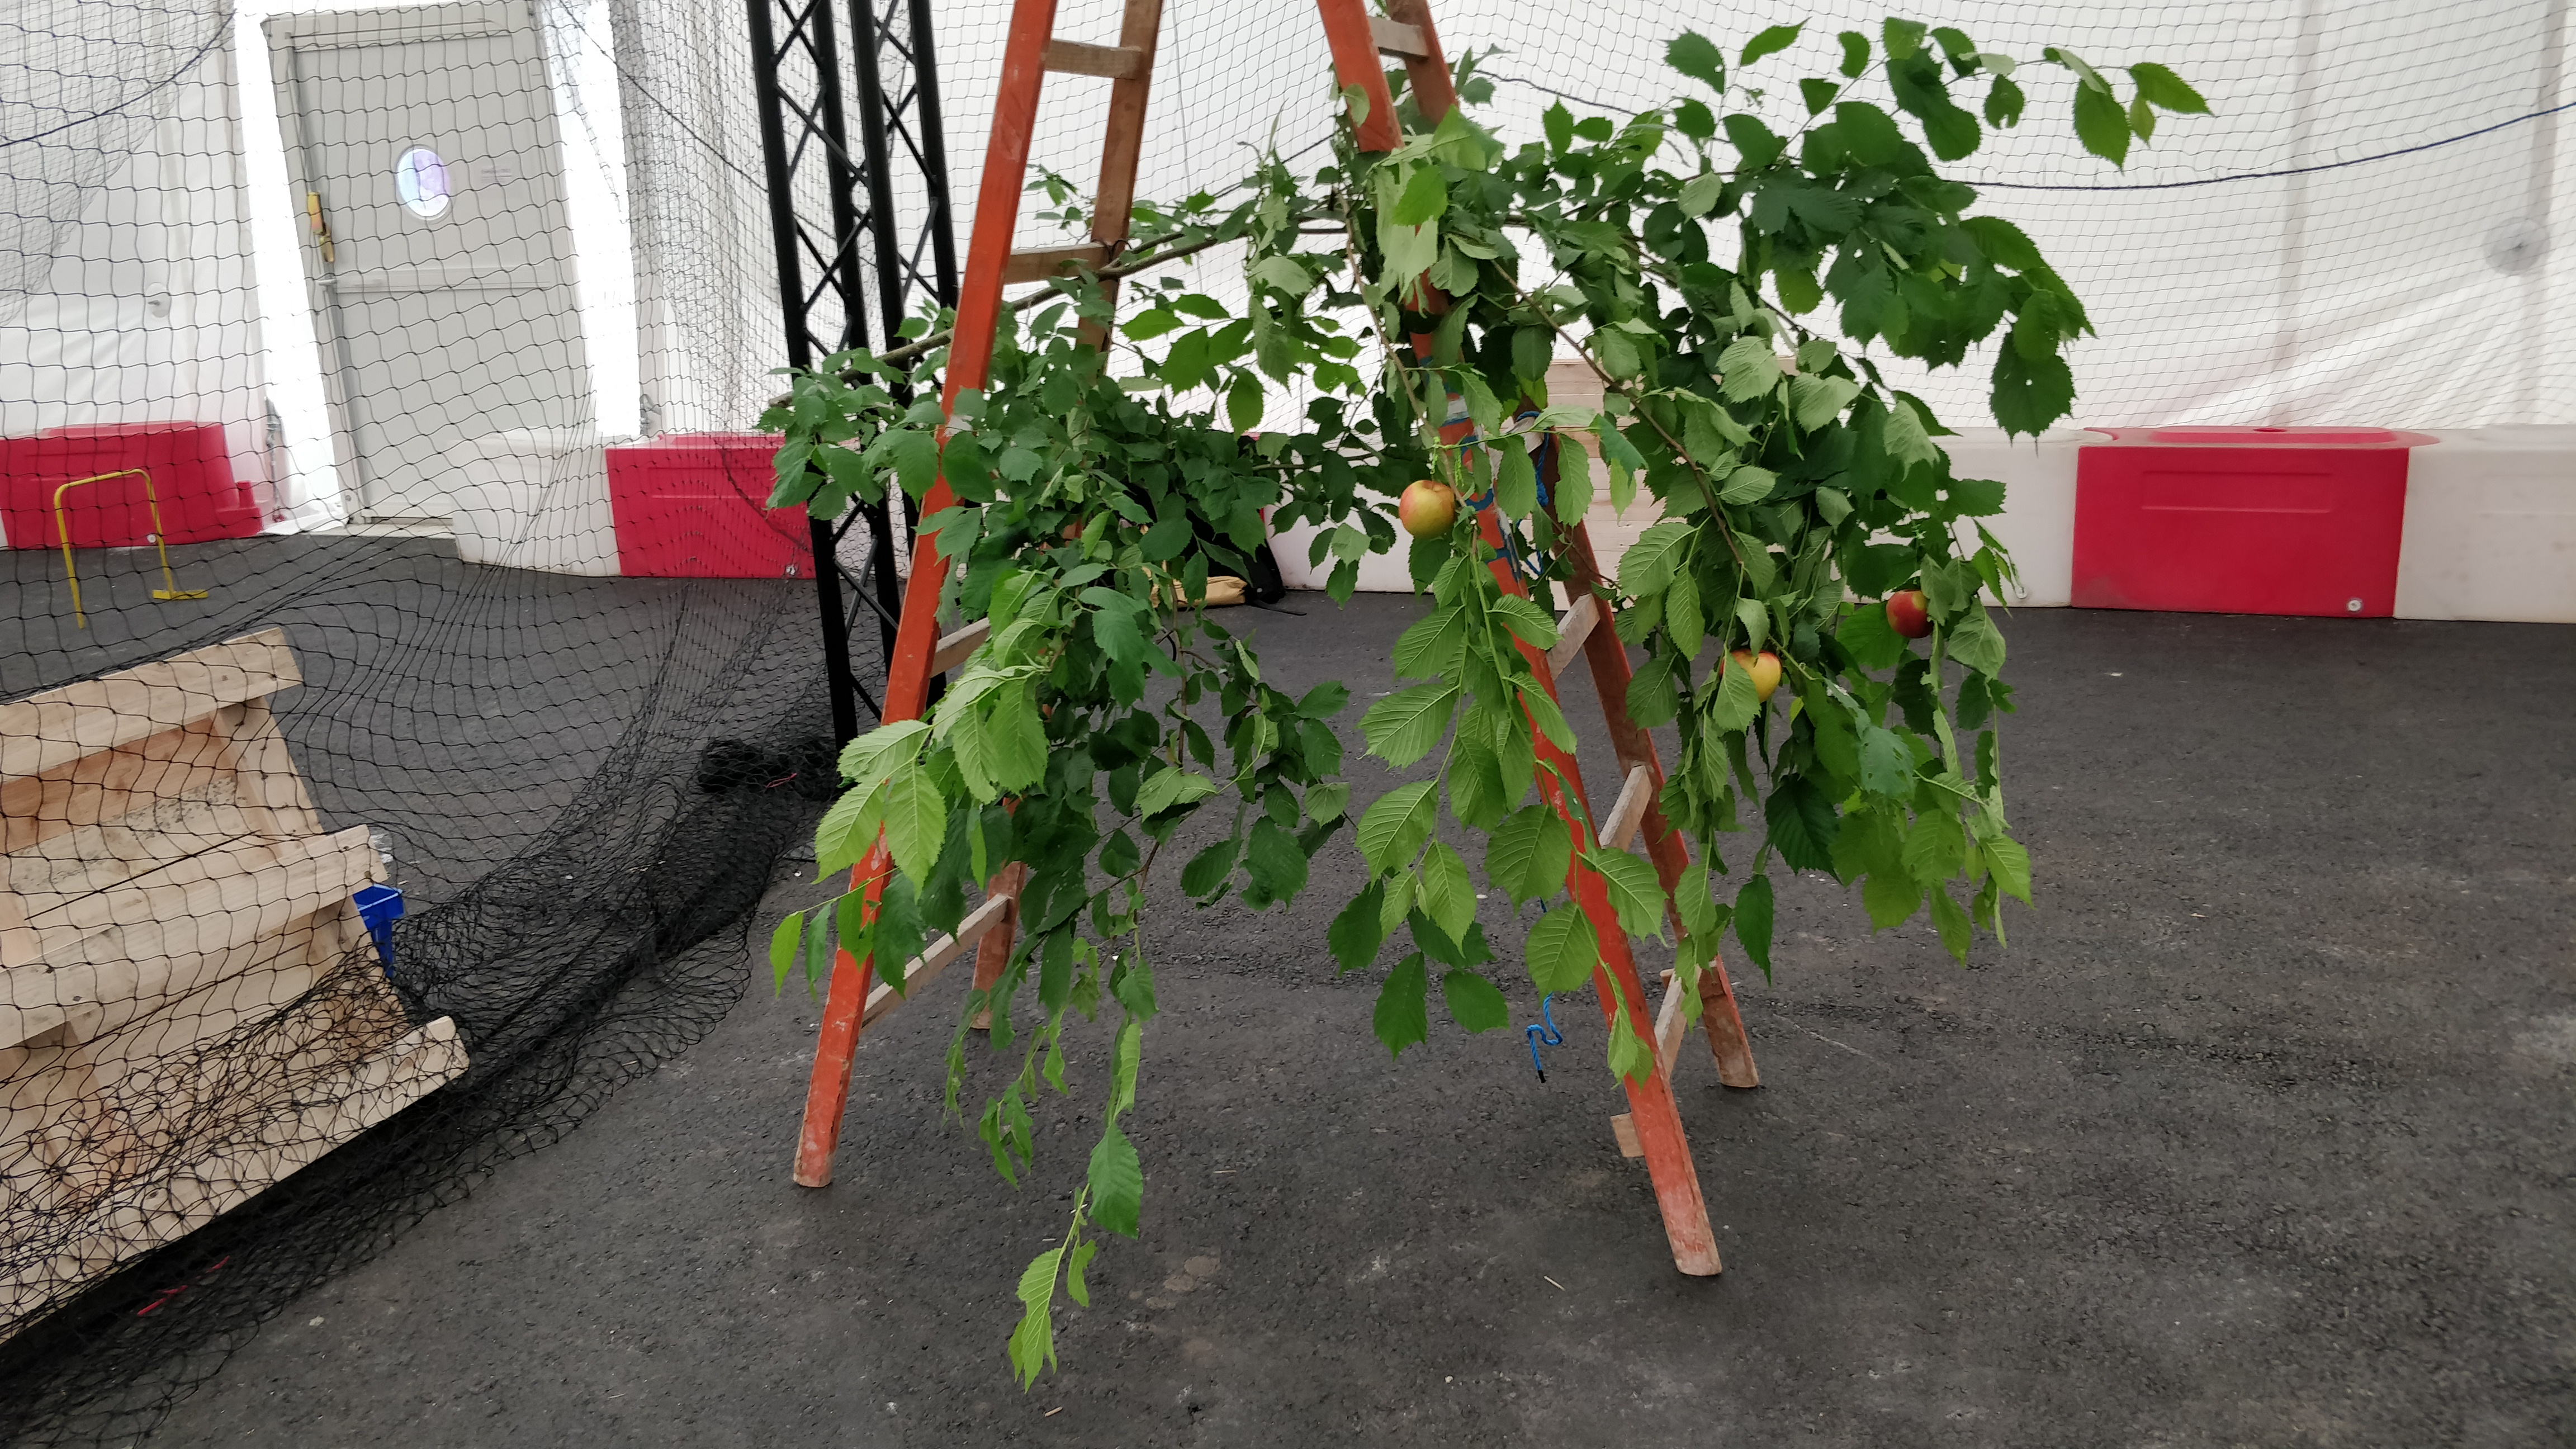apple: (1399, 479, 1454, 540), (1720, 649, 1780, 704), (1886, 589, 1936, 639)
